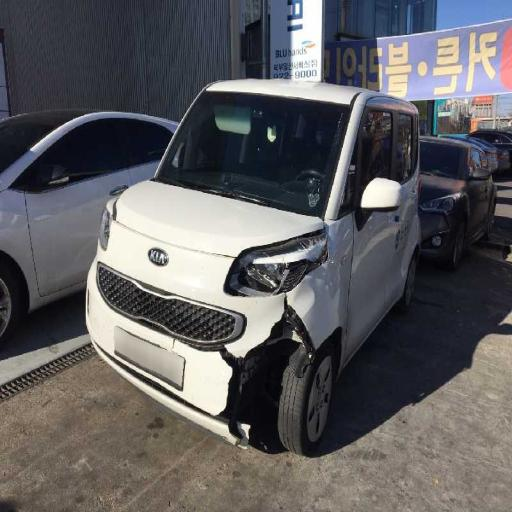broken: (201, 246, 344, 438)
